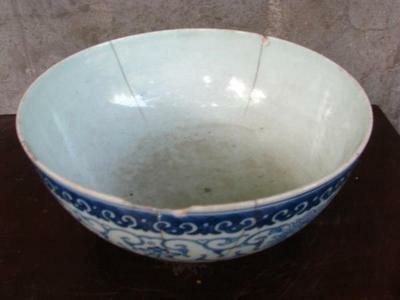ceramics: (11, 25, 377, 270)
